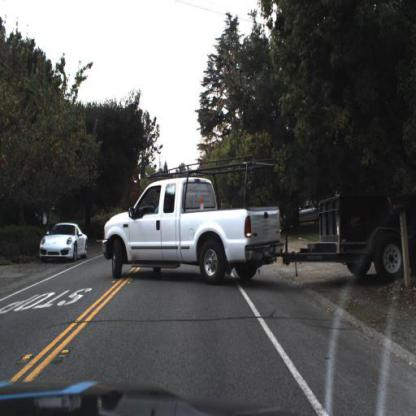car: (38, 220, 88, 263)
truck: (94, 129, 416, 310)
